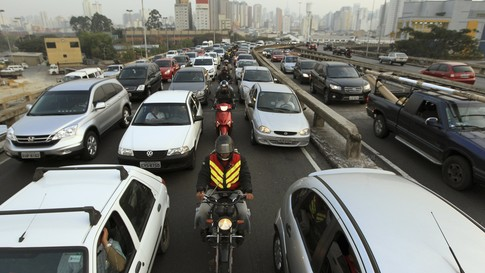bike: (194, 137, 253, 273), (209, 81, 233, 137)
car: (272, 169, 484, 273), (1, 164, 171, 273), (367, 85, 485, 182), (2, 78, 131, 158), (119, 90, 204, 173), (245, 83, 311, 148), (313, 62, 369, 103), (233, 66, 275, 103), (167, 68, 208, 103), (422, 61, 477, 86), (120, 65, 165, 95), (193, 57, 217, 78), (294, 60, 316, 82), (380, 52, 407, 65)
